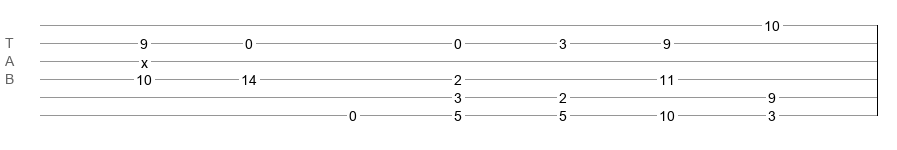0: (245, 36, 253, 46), (349, 108, 357, 118), (454, 36, 462, 46)
10: (136, 72, 152, 82), (659, 108, 675, 118), (764, 18, 780, 28)
11: (659, 72, 675, 82)
14: (241, 72, 257, 82)
2: (454, 72, 462, 82), (559, 90, 567, 100)
3: (454, 90, 462, 100), (559, 36, 567, 46), (768, 108, 776, 118)
5: (454, 108, 462, 118), (559, 108, 567, 118)
9: (140, 36, 148, 46), (663, 36, 671, 46), (768, 90, 776, 100)
x: (141, 55, 148, 63)
